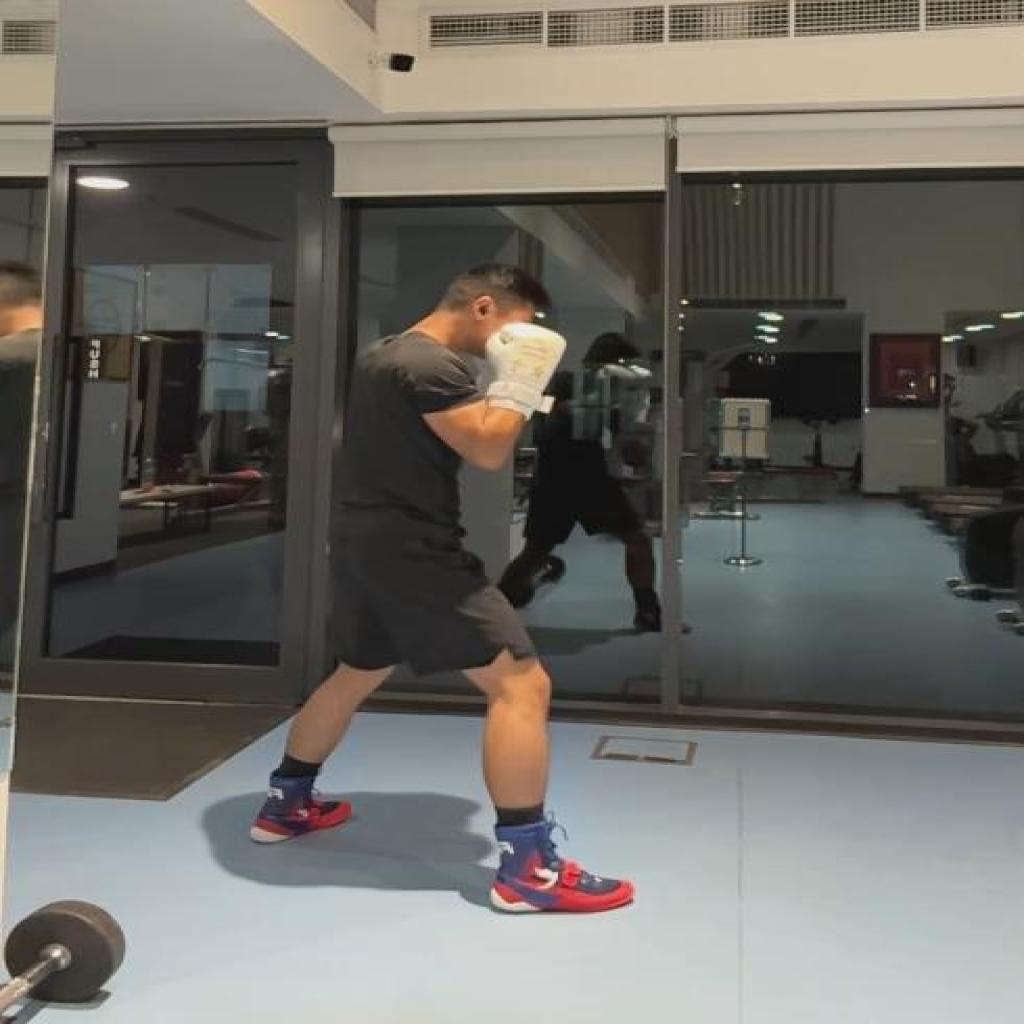no punch: (251, 261, 637, 923)
